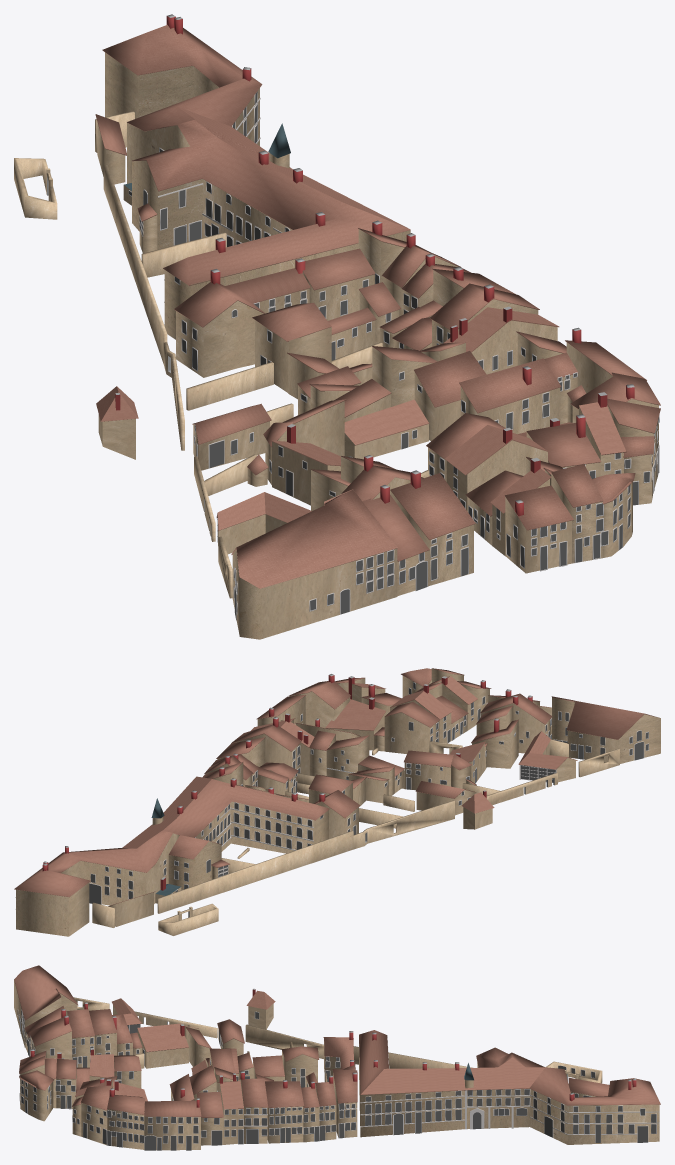
File: ilot44combine.fbx
3 views of the same model, one above another, from view 1: azimuth 30°, elevation 25°; view 2: azimuth 150°, elevation 25°; view 3: azimuth 270°, elevation 25° (orthographic). The views are drawn at different scales.
Visible parts, largest first — view 1: _ILOT44BAT5, _ILOT44BAT9, ILOT44, _ILOT44BAT6, _ILOT44BAT22, _ILOT44BAT57, _ILOT44BAT53, _ILOT44BAT2, _ILOT44BAT13, _ILOT44BAT72, _ILOT44BAT8, _ILOT44BAT81 (+38 smaller); view 2: _ILOT44BAT5, ILOT44, _ILOT44BAT9, _ILOT44BAT16, MUR83, _ILOT44BAT1, _ILOT44BAT7, _ILOT44BAT64, _ILOT44BAT4, _ILOT44BAT55, _ILOT44BAT68, _ILOT44BAT12 (+30 smaller); view 3: _ILOT44BAT5, _ILOT44BAT58, _ILOT44BAT9, _ILOT44BAT37, _ILOT44BAT64, _ILOT44BAT47, _ILOT44BAT4, _ILOT44BAT27, _ILOT44BAT76, _ILOT44BAT72, _ILOT44BAT65, _ILOT44BAT22 (+30 smaller).
Part boxes in pixels (bbox=[...]): _ILOT44BAT5: bbox=[102, 14, 410, 339]; _ILOT44BAT9: bbox=[231, 489, 397, 639]; ILOT44: bbox=[95, 111, 429, 598]; _ILOT44BAT6: bbox=[174, 258, 310, 377]; _ILOT44BAT22: bbox=[390, 470, 475, 586]; _ILOT44BAT57: bbox=[459, 358, 561, 434]; _ILOT44BAT53: bbox=[504, 485, 573, 573]; _ILOT44BAT2: bbox=[252, 302, 331, 392]; _ILOT44BAT13: bbox=[445, 425, 547, 510]; _ILOT44BAT72: bbox=[444, 306, 559, 374]; _ILOT44BAT8: bbox=[192, 403, 271, 470]; _ILOT44BAT81: bbox=[344, 399, 429, 459]; _ILOT44BAT5: bbox=[14, 776, 329, 936]; ILOT44: bbox=[92, 739, 619, 927]; _ILOT44BAT9: bbox=[551, 696, 660, 763]; _ILOT44BAT16: bbox=[384, 702, 439, 753]; MUR83: bbox=[353, 800, 454, 849]; _ILOT44BAT1: bbox=[480, 693, 552, 753]; _ILOT44BAT7: bbox=[518, 731, 577, 782]; _ILOT44BAT64: bbox=[289, 674, 350, 727]; _ILOT44BAT4: bbox=[231, 717, 301, 773]; _ILOT44BAT55: bbox=[404, 750, 453, 790]; _ILOT44BAT68: bbox=[325, 697, 386, 750]; _ILOT44BAT12: bbox=[471, 718, 518, 768]; _ILOT44BAT5: bbox=[359, 1030, 660, 1144]; _ILOT44BAT58: bbox=[144, 1098, 201, 1150]; _ILOT44BAT9: bbox=[14, 965, 78, 1047]; _ILOT44BAT37: bbox=[265, 1080, 304, 1143]; _ILOT44BAT64: bbox=[106, 1088, 144, 1149]; _ILOT44BAT47: bbox=[137, 1023, 188, 1068]; _ILOT44BAT4: bbox=[238, 1071, 268, 1143]; _ILOT44BAT27: bbox=[332, 1069, 357, 1138]; _ILOT44BAT76: bbox=[80, 1085, 112, 1144]; _ILOT44BAT72: bbox=[216, 1073, 244, 1144]; _ILOT44BAT65: bbox=[19, 1070, 54, 1121]; _ILOT44BAT22: bbox=[29, 1015, 71, 1059].
Size of the model in its own units: 16.39 by 3.76 by 31.92.
